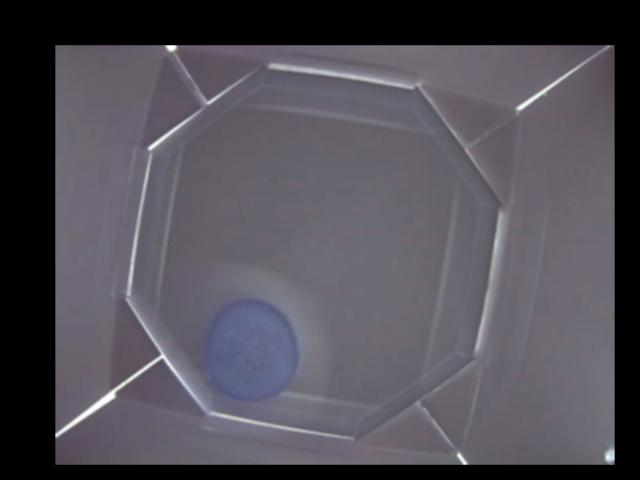Mooli: (200, 299, 301, 400)
